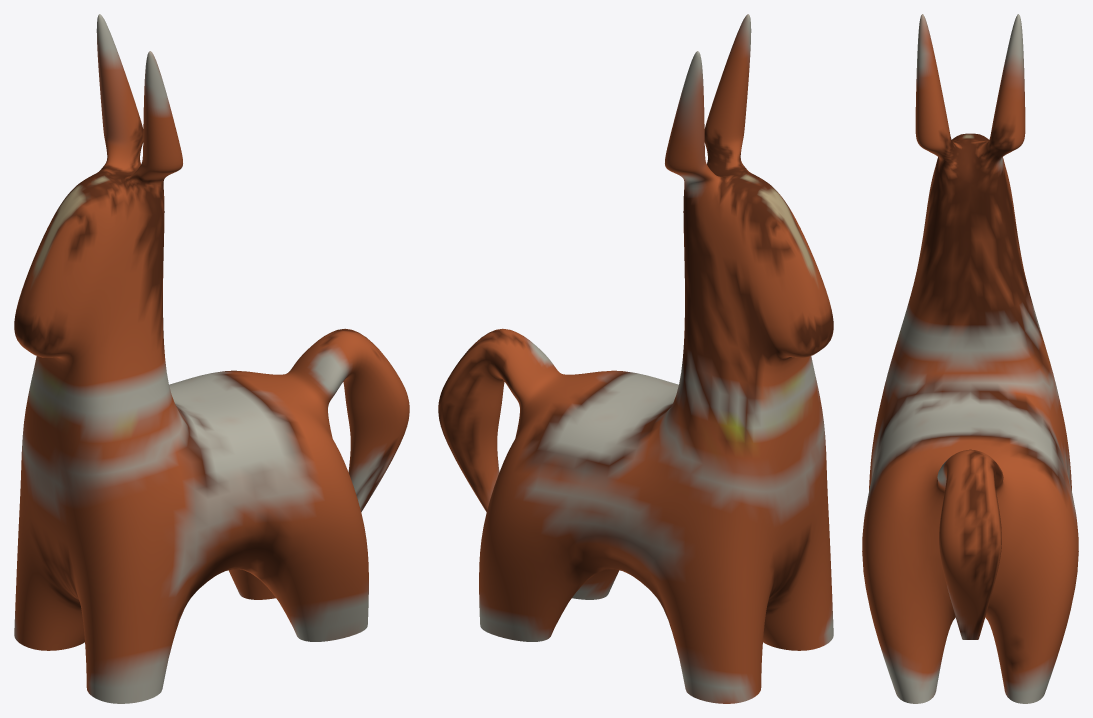
The model's file is asset.glb.
The picture shows the model from 3 angles, left to right: view 1: azimuth 30°, elevation 25°; view 2: azimuth 150°, elevation 25°; view 3: azimuth 270°, elevation 25°; orthographic projection. The views are drawn at different scales.
Visible parts, largest first — view 1: Cylinder002; view 2: Cylinder002; view 3: Cylinder002.
Part boxes in pixels (x1,y1,x2,y2): Cylinder002: (14, 14, 409, 703); Cylinder002: (438, 14, 833, 703); Cylinder002: (862, 14, 1078, 703).
Bounding box in the file's own units: 91.2 × 142 × 47.06.
